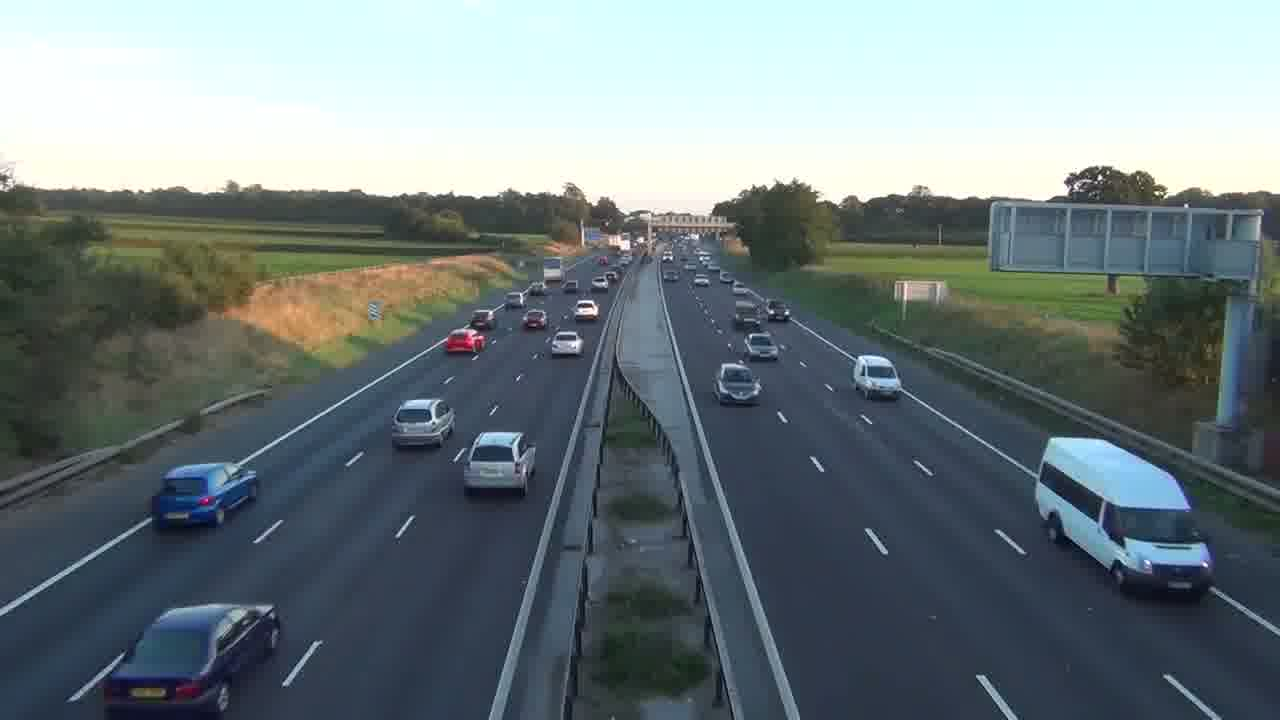car: (149, 461, 259, 530), (458, 431, 538, 497), (390, 397, 456, 450), (851, 353, 902, 400), (713, 362, 763, 405), (443, 328, 485, 358), (743, 331, 781, 362), (549, 330, 584, 357), (574, 298, 599, 321), (522, 309, 546, 330)
truck: (1034, 436, 1216, 600), (101, 602, 283, 714)
